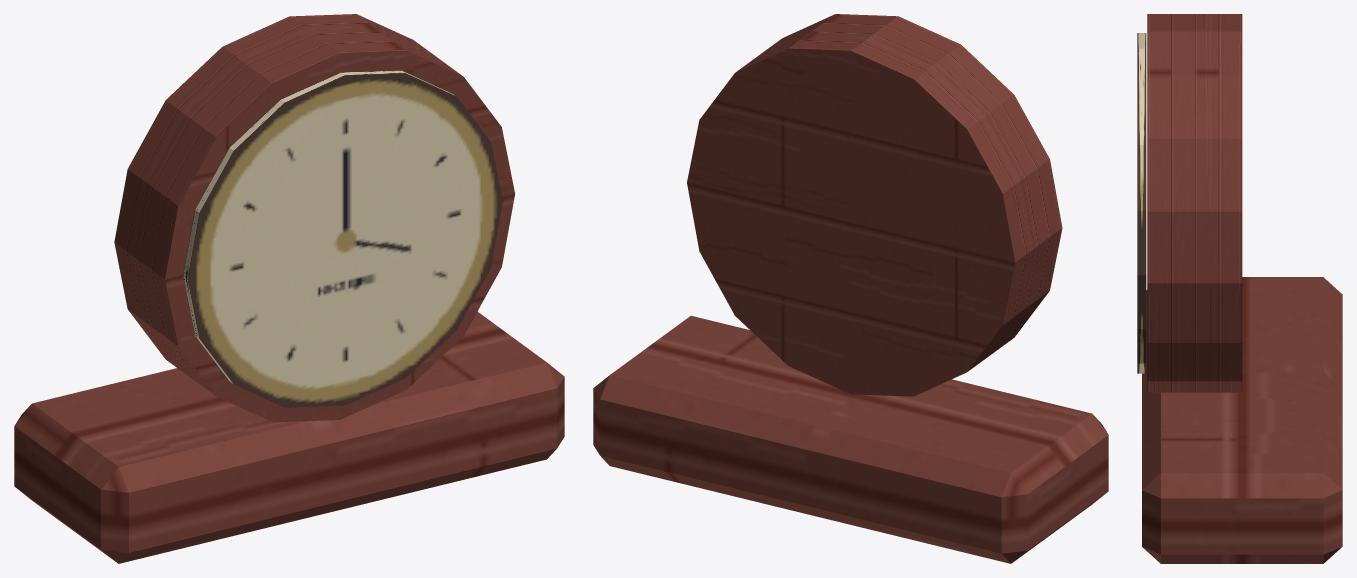
The model's file is MD_130_MantelClock.fbx.
3 renders of one model, left to right at view 1: azimuth 30°, elevation 25°; view 2: azimuth 150°, elevation 25°; view 3: azimuth 270°, elevation 25°, orthographic. The views are drawn at different scales.
Parts seen in each view (by area): view 1: MD_130_MantelClock_clock_face, MD_130_MantelClock_clock_plinth, MD_130_MantelClock_clock_case; view 2: MD_130_MantelClock_clock_case, MD_130_MantelClock_clock_plinth; view 3: MD_130_MantelClock_clock_plinth, MD_130_MantelClock_clock_case, MD_130_MantelClock_clock_face.
Boxes of the visible parts, left/top/right/bottom form: MD_130_MantelClock_clock_face: left=183, top=70, right=502, bottom=407; MD_130_MantelClock_clock_plinth: left=14, top=311, right=564, bottom=563; MD_130_MantelClock_clock_case: left=114, top=14, right=514, bottom=422; MD_130_MantelClock_clock_case: left=687, top=14, right=1062, bottom=396; MD_130_MantelClock_clock_plinth: left=593, top=315, right=1108, bottom=563; MD_130_MantelClock_clock_plinth: left=1142, top=277, right=1342, bottom=563; MD_130_MantelClock_clock_case: left=1147, top=14, right=1242, bottom=392; MD_130_MantelClock_clock_face: left=1137, top=33, right=1146, bottom=373.
Bounding box in the file's own units: 0.45 × 0.43 × 0.184.
2 materials, 2 textured.
